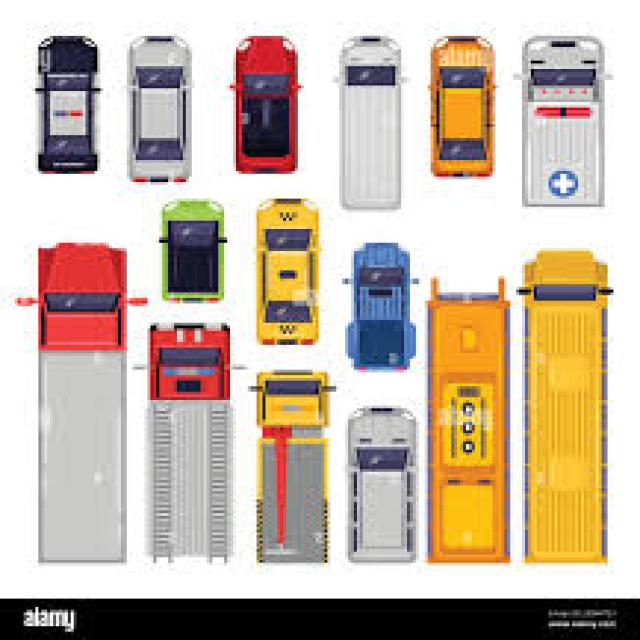truck: (27, 239, 128, 570), (514, 246, 612, 577), (146, 318, 233, 560), (250, 366, 334, 566), (334, 29, 408, 216)
